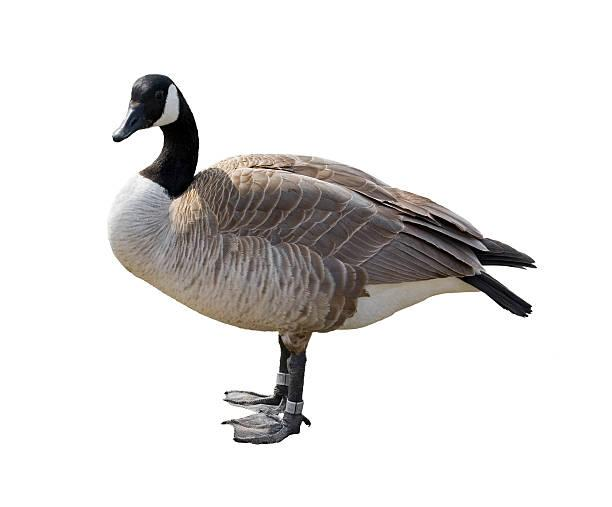Canadian-Goose: (108, 76, 543, 450)
